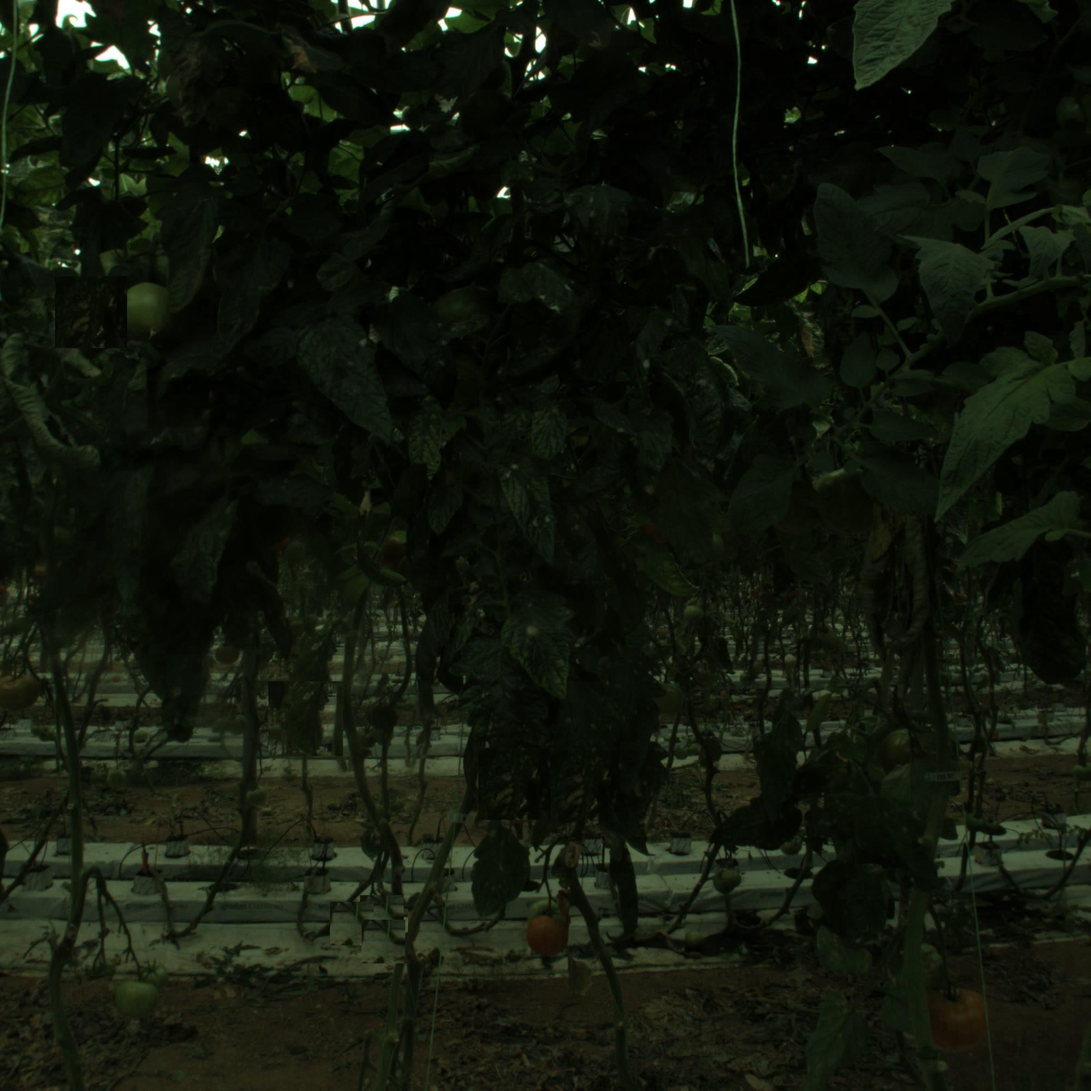fully-ripe: (915, 978, 993, 1055), (524, 912, 573, 961)
unripe: (119, 284, 176, 341), (113, 975, 163, 1024)
